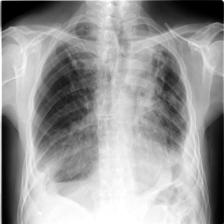tuberculosis: (19, 16, 200, 194)
